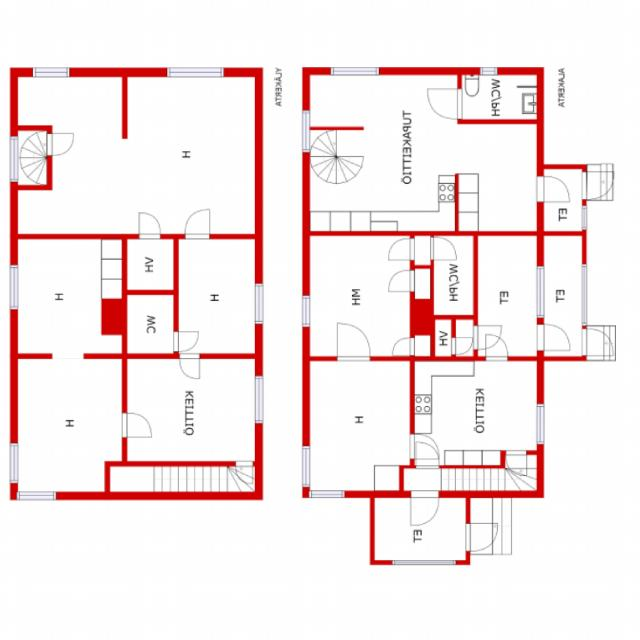door: (337, 323, 370, 361), (427, 88, 462, 119), (411, 490, 438, 524), (582, 171, 614, 199), (537, 324, 570, 351), (466, 524, 498, 551), (537, 176, 570, 202), (582, 329, 613, 355), (186, 209, 210, 239), (122, 413, 151, 437), (473, 326, 502, 349), (410, 435, 438, 458), (416, 442, 439, 469), (388, 270, 415, 292), (388, 238, 415, 260), (486, 334, 508, 361), (430, 238, 456, 260), (139, 212, 160, 238), (47, 134, 73, 155), (174, 331, 199, 352), (506, 450, 526, 475), (180, 354, 200, 379), (236, 461, 253, 485), (392, 338, 414, 356), (452, 338, 472, 354)
